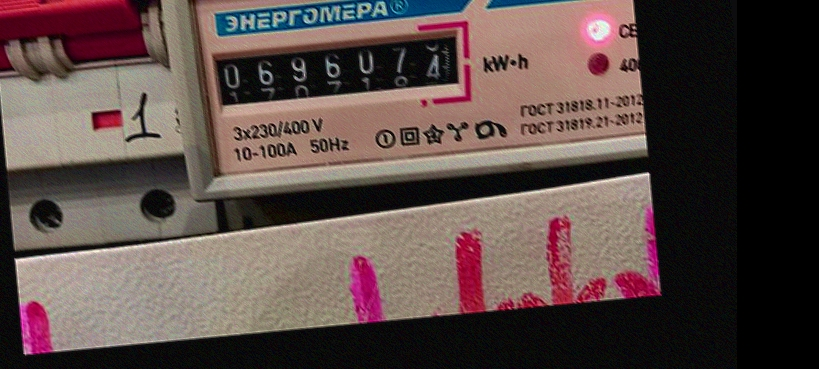0: (220, 59, 244, 89), (357, 44, 377, 74), (256, 56, 276, 84)
4: (423, 51, 443, 80)
6: (322, 47, 342, 79)
7: (389, 42, 410, 72)
9: (289, 52, 310, 82)
screen: (197, 15, 478, 124)
